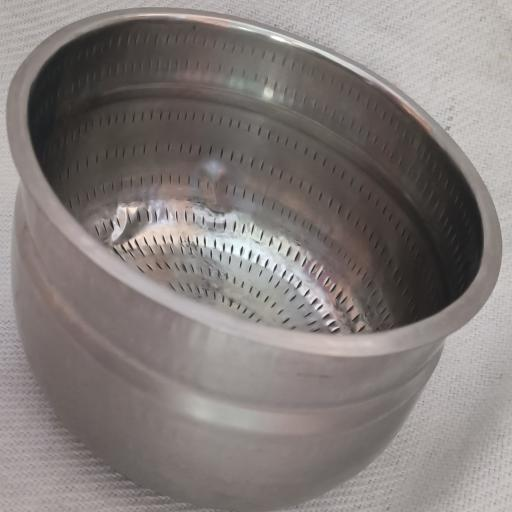vessel: (6, 9, 502, 511)
